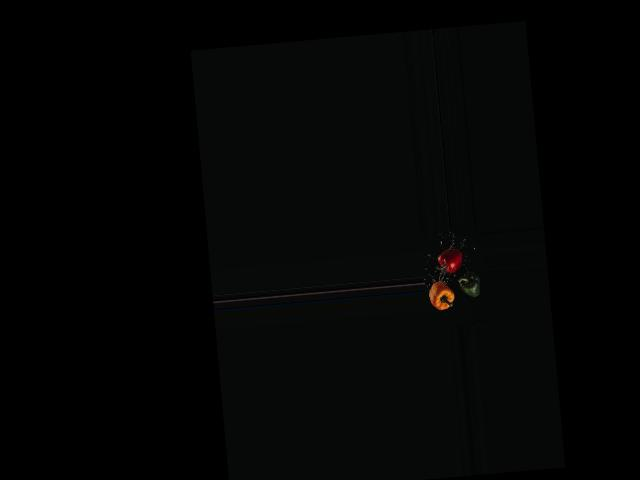bell_pepper: (430, 246, 469, 279)
